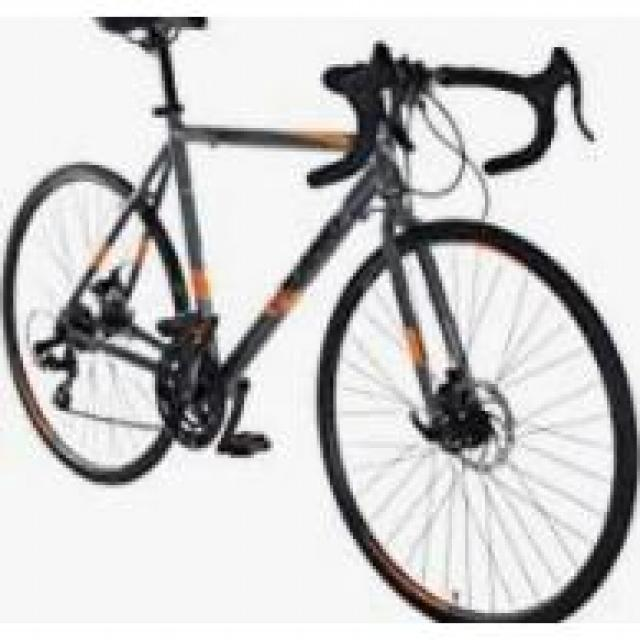bicycle: (18, 42, 638, 624)
